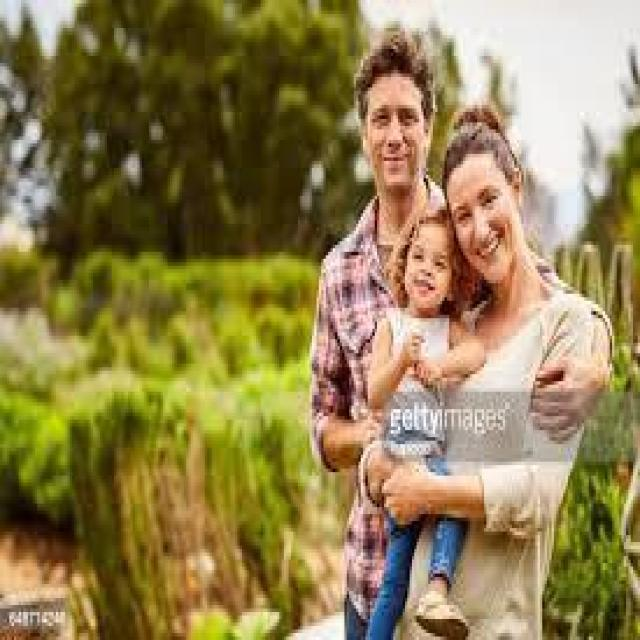person: (289, 14, 463, 623), (423, 73, 610, 605), (377, 168, 468, 636)
